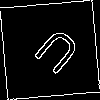U: (25, 25, 83, 84)
